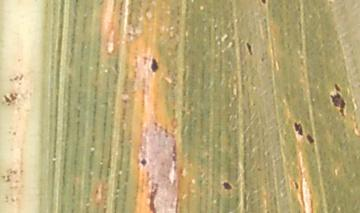tarspot: (329, 93, 346, 116), (150, 57, 159, 73), (294, 122, 304, 136), (245, 41, 254, 56), (222, 181, 232, 191), (306, 133, 315, 144), (333, 82, 342, 93), (141, 158, 147, 166), (293, 181, 299, 189), (260, 1, 268, 6)
